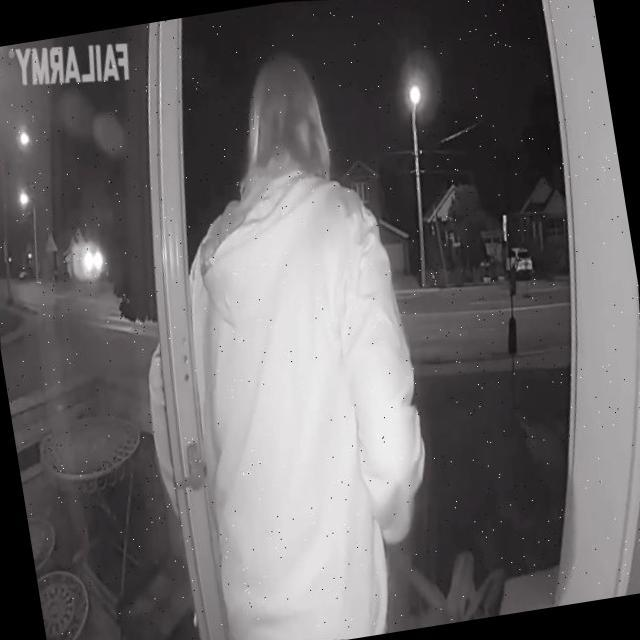person: (73, 17, 487, 640)
